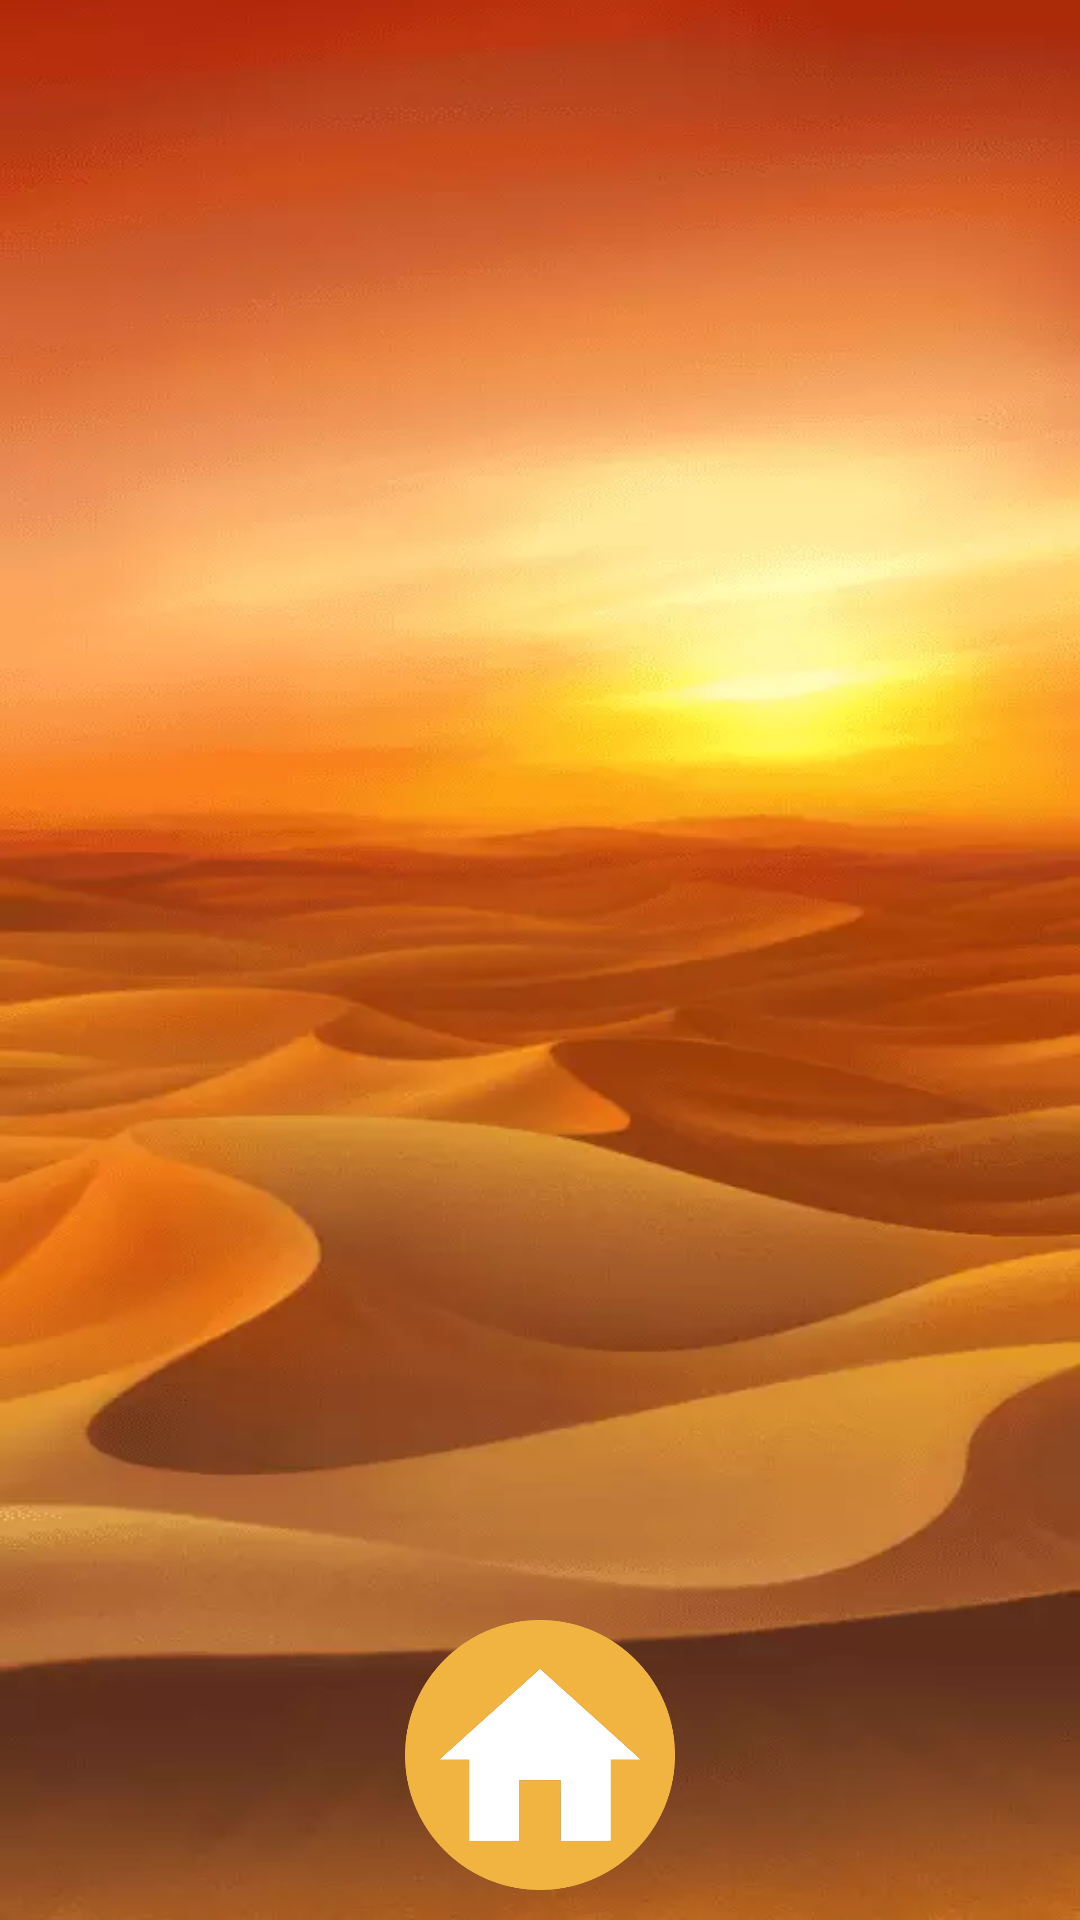

Named icons in this screenshot (1080*1920) and their centers, [x,y]:
Navigate to menu: [540,1755]
